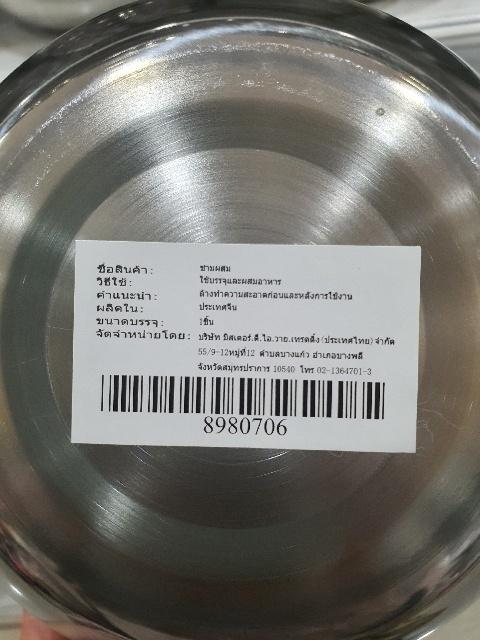Barcode: (88, 367, 398, 438)
